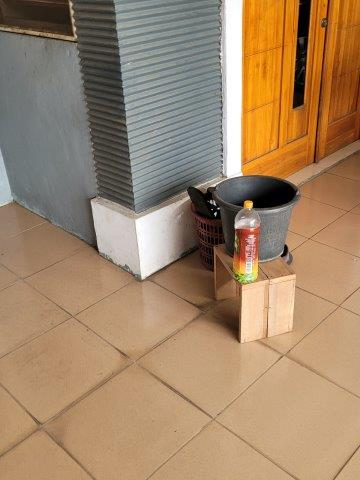botolplastik: (231, 200, 260, 284)
